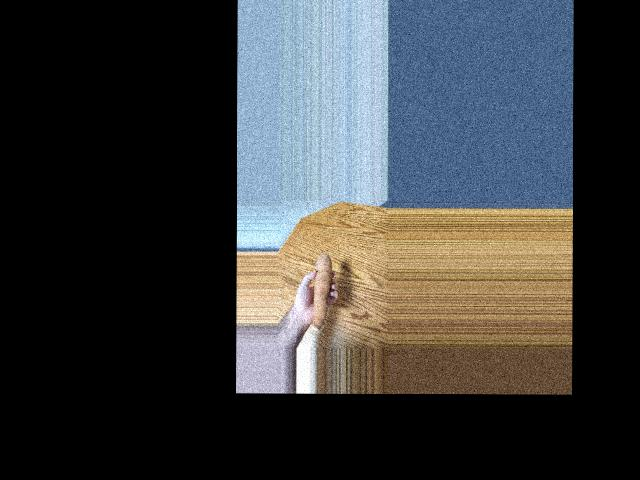sweet_potato: (313, 250, 337, 327)
